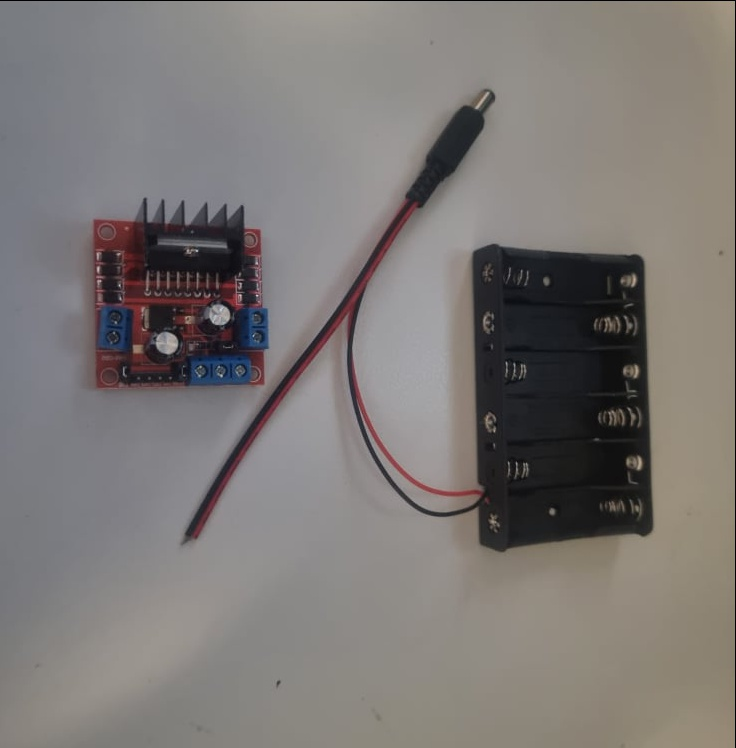BATTERY BOX: (476, 242, 652, 553)
MOTOR: (96, 197, 270, 388)
